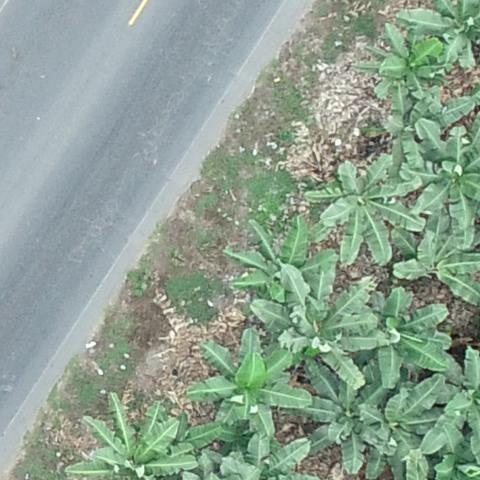Banana-plant: (254, 269, 382, 377), (194, 325, 310, 430), (300, 361, 391, 477), (67, 394, 189, 480), (322, 161, 420, 265), (346, 287, 449, 380), (404, 118, 480, 240), (222, 219, 335, 297), (358, 390, 443, 480), (350, 21, 443, 95), (422, 346, 480, 452), (397, 234, 480, 302), (412, 0, 480, 61)
